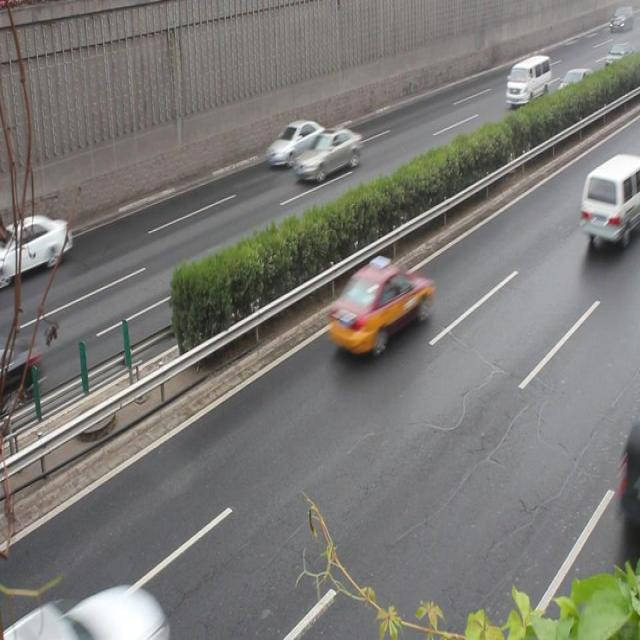car: (327, 258, 430, 354), (0, 212, 71, 275), (292, 126, 360, 181), (265, 118, 326, 168), (552, 66, 594, 109)
